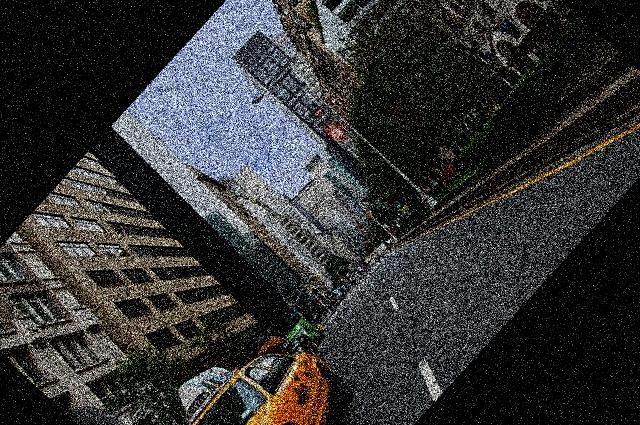taxi: (166, 345, 333, 425)
